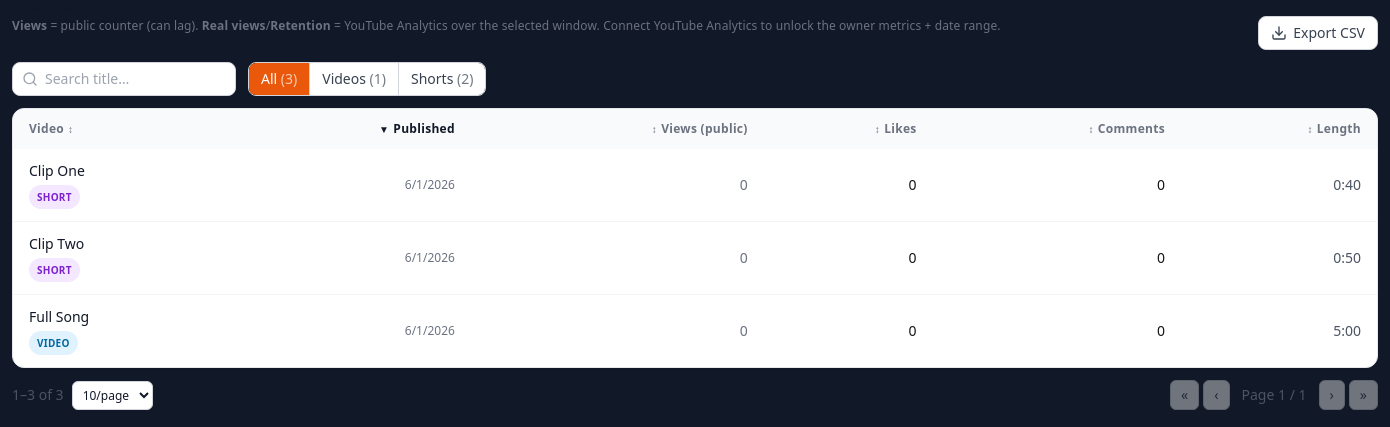
YouTubeVideosPanel › badges Shorts vs videos and filters by type with live counts
Expected: the button "All (3)" is shown, top-left (249, 63), bottom-right (309, 95)
Expected: the button "Videos (1)" is shown, top-left (309, 63), bottom-right (398, 95)
# Filter to Shorts → only the two clips.
Click the button "Shorts (2)" at (442, 79), box top-left (398, 63), bottom-right (485, 95)
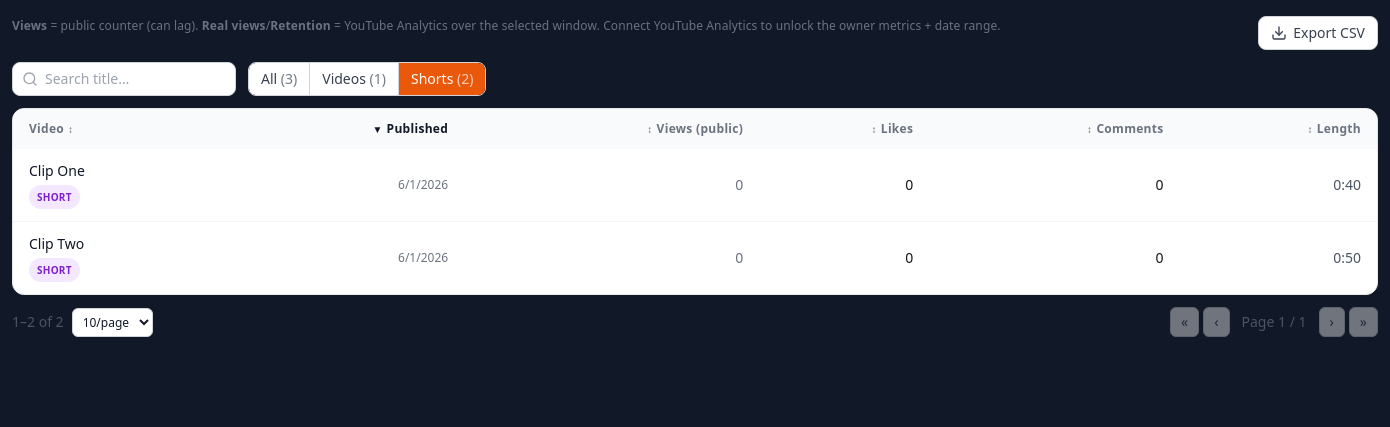
Now the text "1–2 of 2" is shown, box top-left (12, 312), bottom-right (64, 332)
Now the link "Full Song" is gone
# Filter to Videos → only the long song.
Click the button "Videos (1)" at (354, 79), box top-left (309, 63), bottom-right (398, 95)
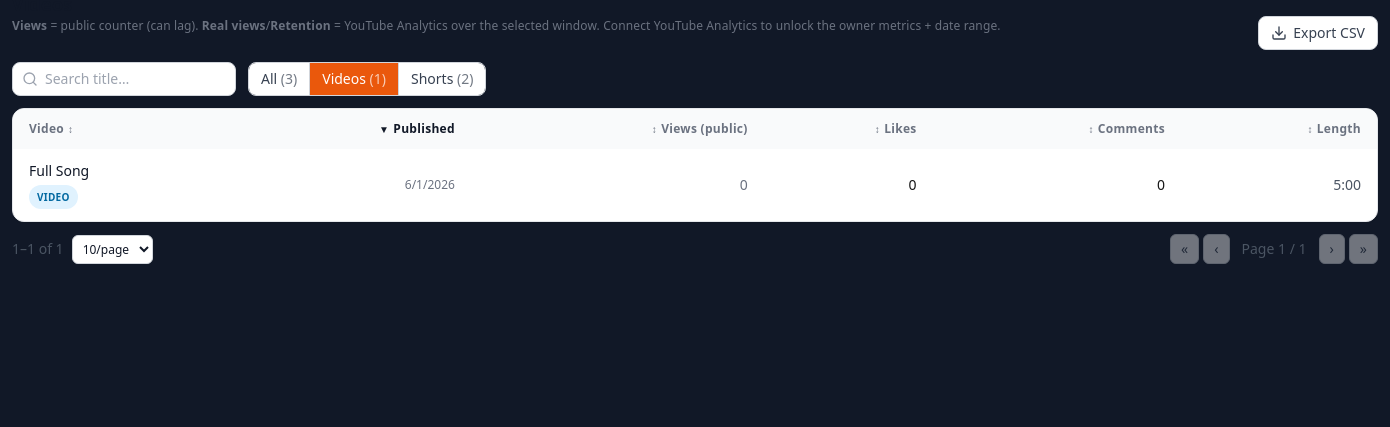
Now the link "Full Song" is shown, box top-left (29, 161), bottom-right (89, 180)
Now the link "Clip One" is gone
